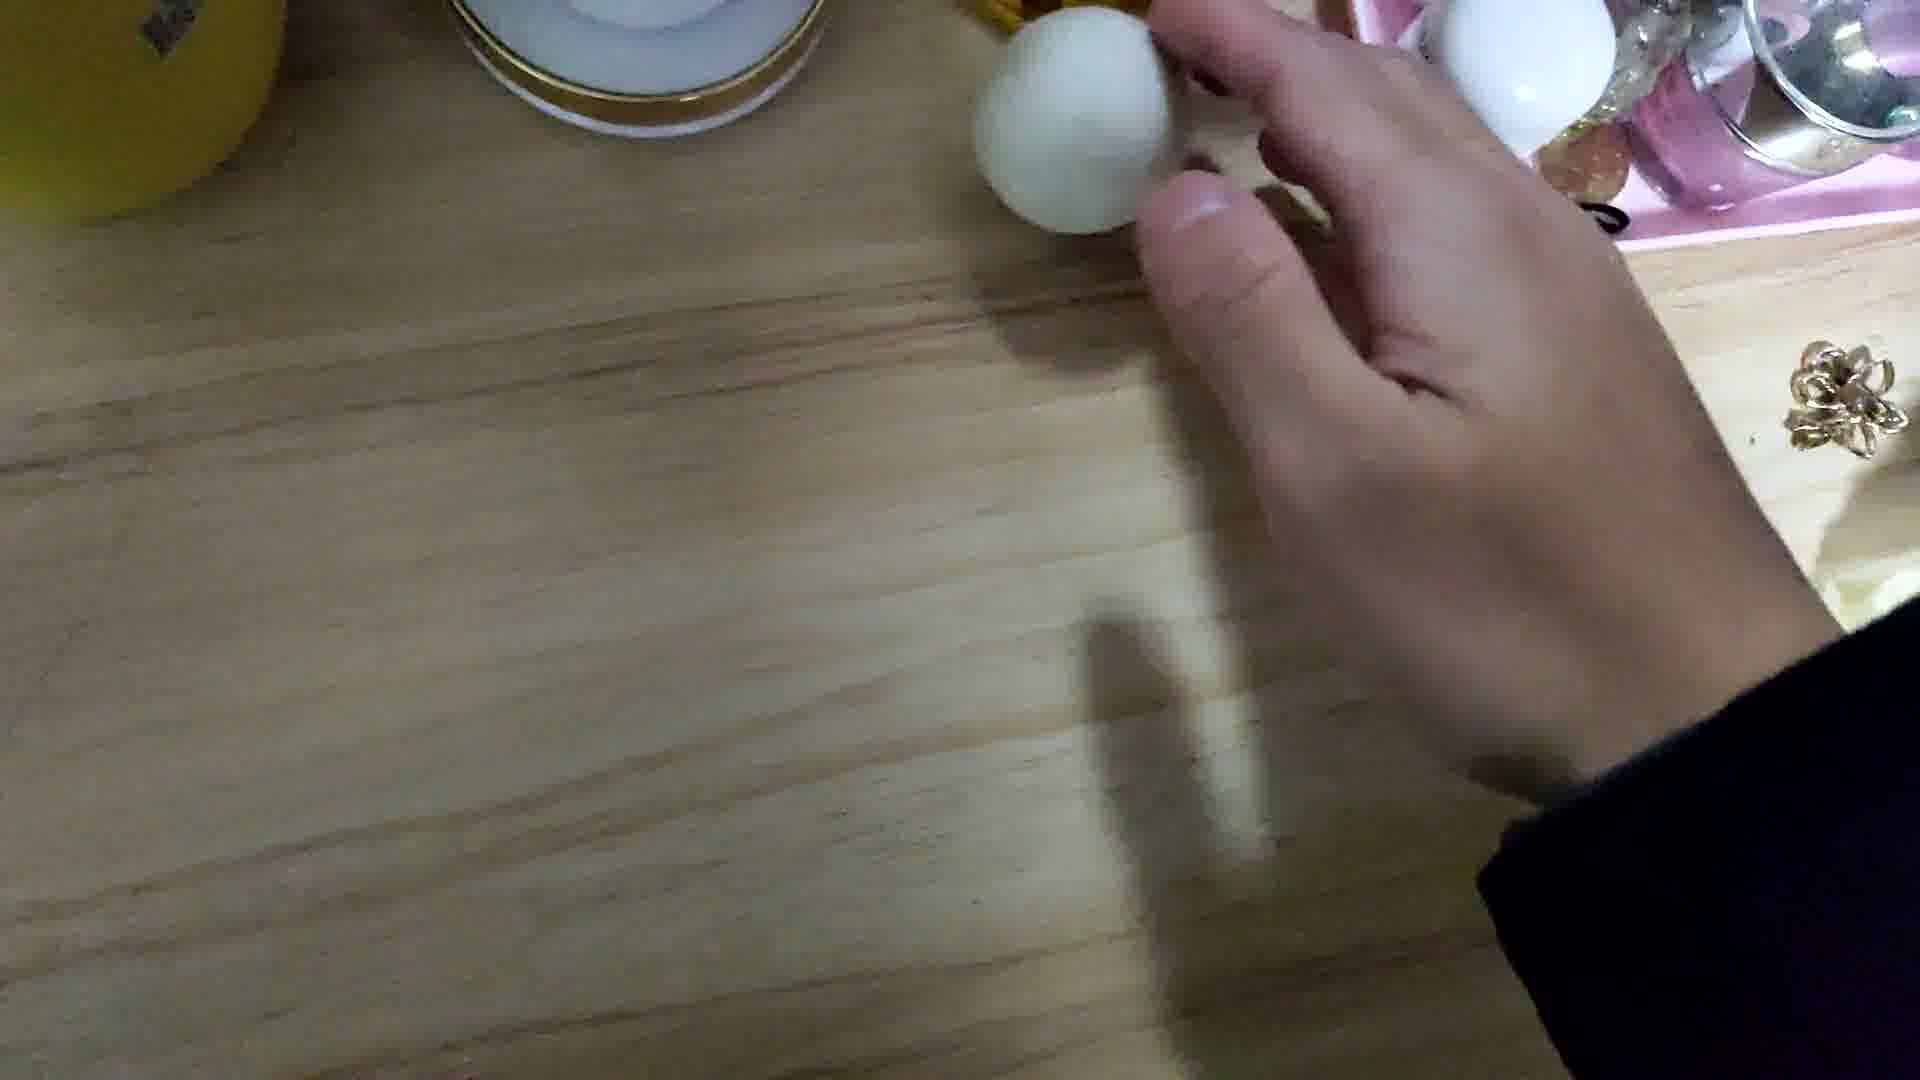Ball: (967, 3, 1191, 237)
